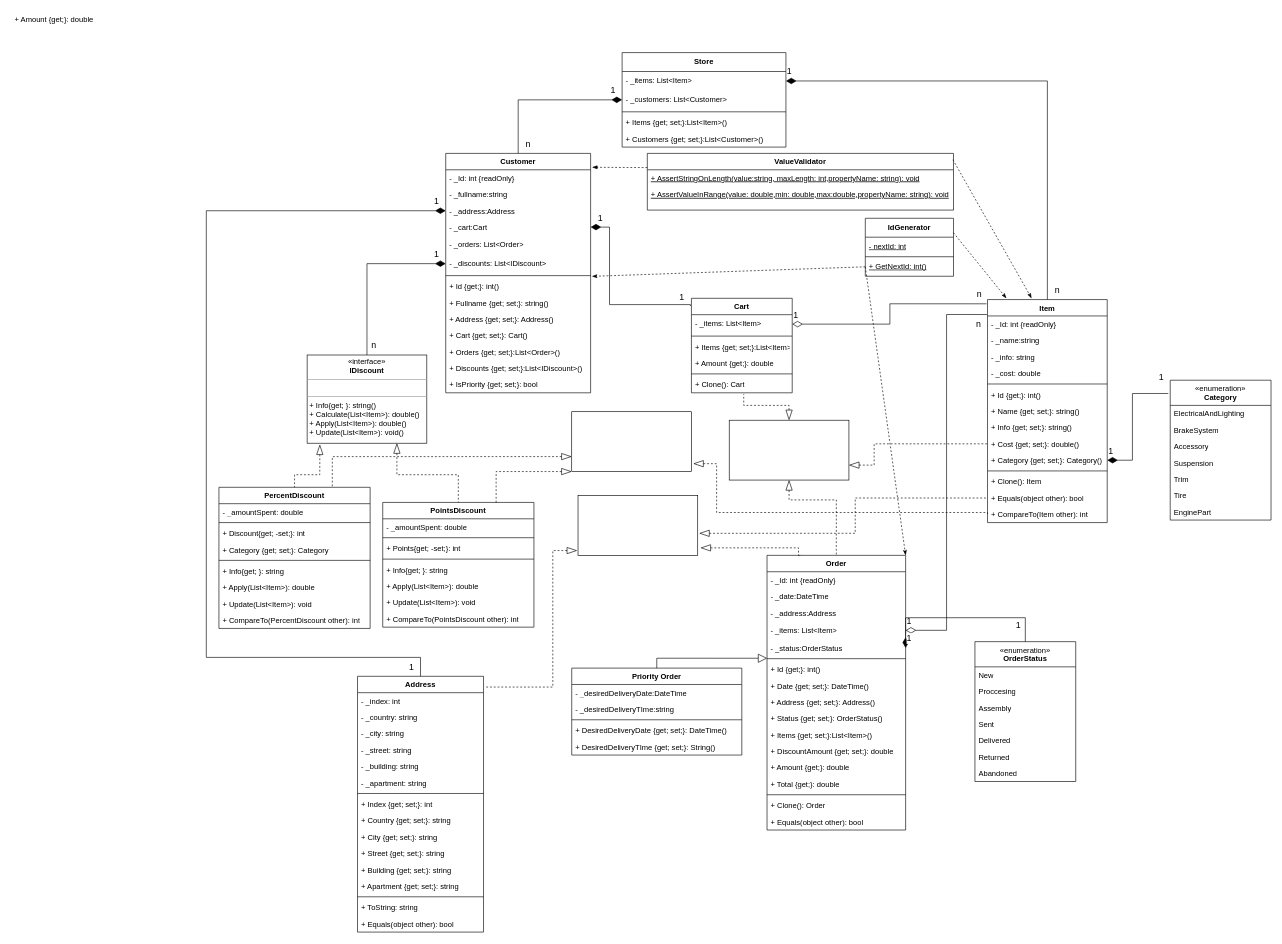
Some shapes in this 1282 by 944 pixel diagram are drawn without their labels. Each missing label, with the centre of its shape:
"«interface» ICloneable + Clone(): object" belongs at point 789,450.
"«interface» IComparable<> + CompareTo(object other): int" belongs at point 631,441.
"«interface» IEquatable<> + Equals(object other): bool" belongs at point 637,525.
